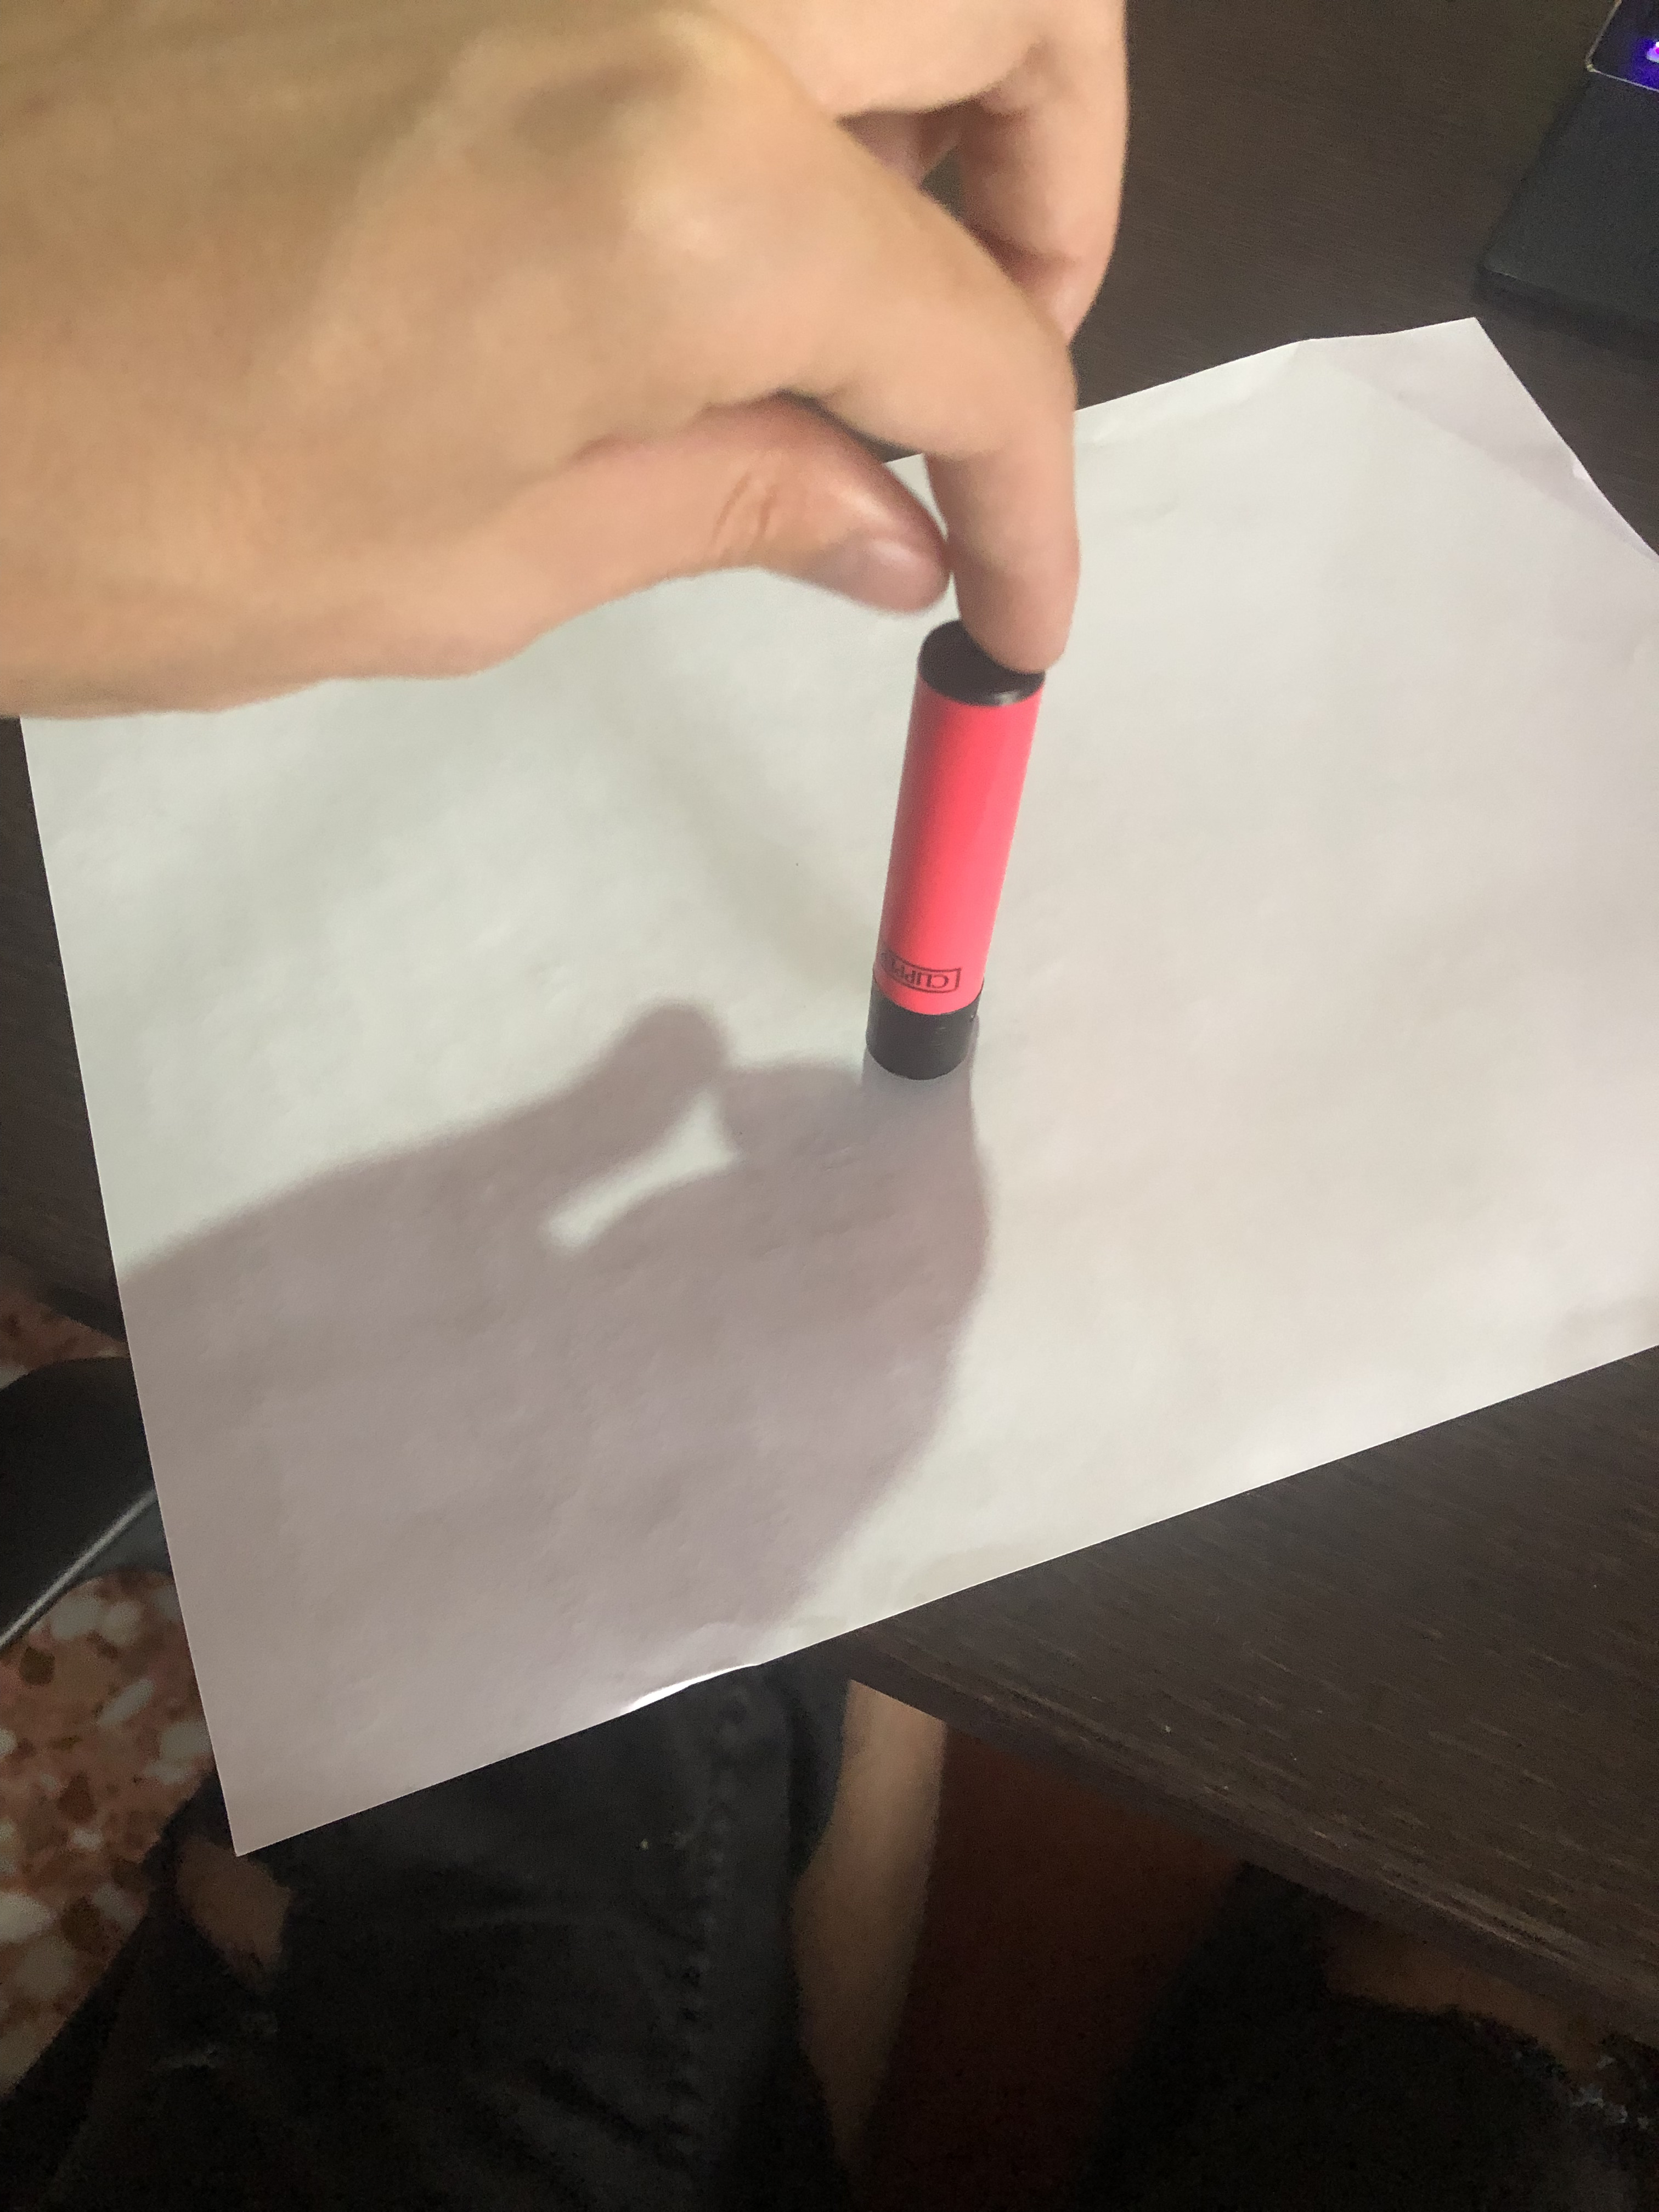Mechero: (802, 620, 1066, 1109)
